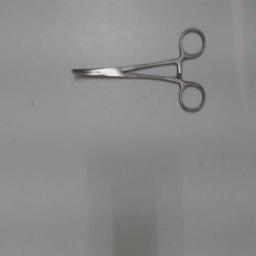Crile Artery Forceps: (66, 24, 210, 120)
